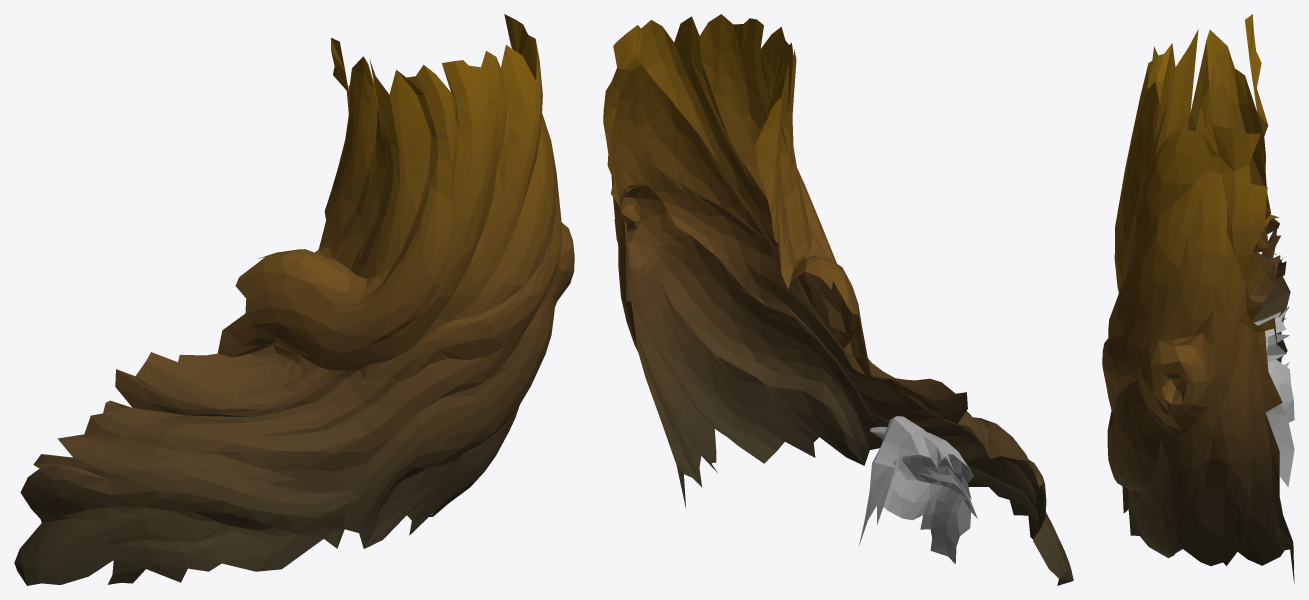
The model's file is SM_Tree_01.fbx.
3 renders of one model, left to right at view 1: azimuth 30°, elevation 25°; view 2: azimuth 150°, elevation 25°; view 3: azimuth 270°, elevation 25°, orthographic. The views are drawn at different scales.
Parts seen in each view (by area): view 1: SM_Tree_01; view 2: SM_Tree_01; view 3: SM_Tree_01.
Boxes of the visible parts, box(x1,y1,x2,y2) form: SM_Tree_01: box(14, 14, 574, 585); SM_Tree_01: box(603, 14, 1073, 585); SM_Tree_01: box(1102, 14, 1294, 583).
Size of the model in its own units: 666 by 597 by 198.
